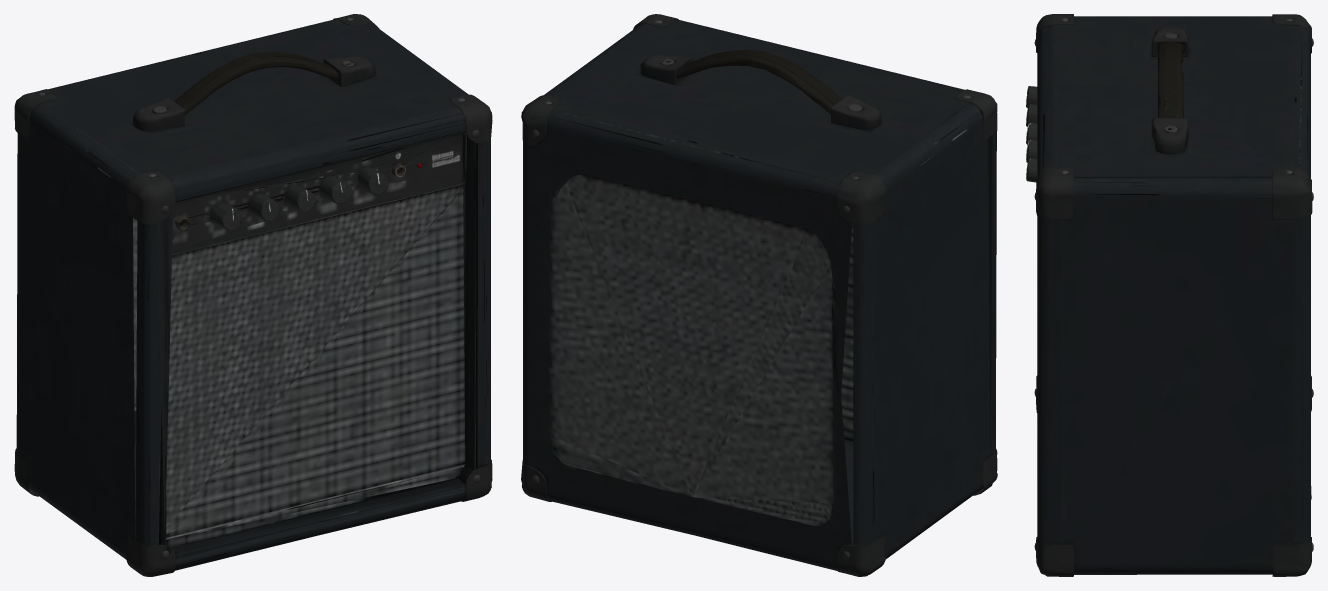
Rendered from desktop.glb.
3 views of the same model, side by side, from view 1: azimuth 30°, elevation 25°; view 2: azimuth 150°, elevation 25°; view 3: azimuth 270°, elevation 25° (orthographic).
Visible parts, largest first — view 1: bassamp; view 2: bassamp; view 3: bassamp.
Boxes of the visible parts, left/top/right/bottom form: bassamp: left=14, top=14, right=492, bottom=576; bassamp: left=521, top=14, right=997, bottom=576; bassamp: left=1026, top=14, right=1313, bottom=576.
Bounding box in the file's own units: 0.4221 × 0.5001 × 0.294.
1 material, 1 textured.
